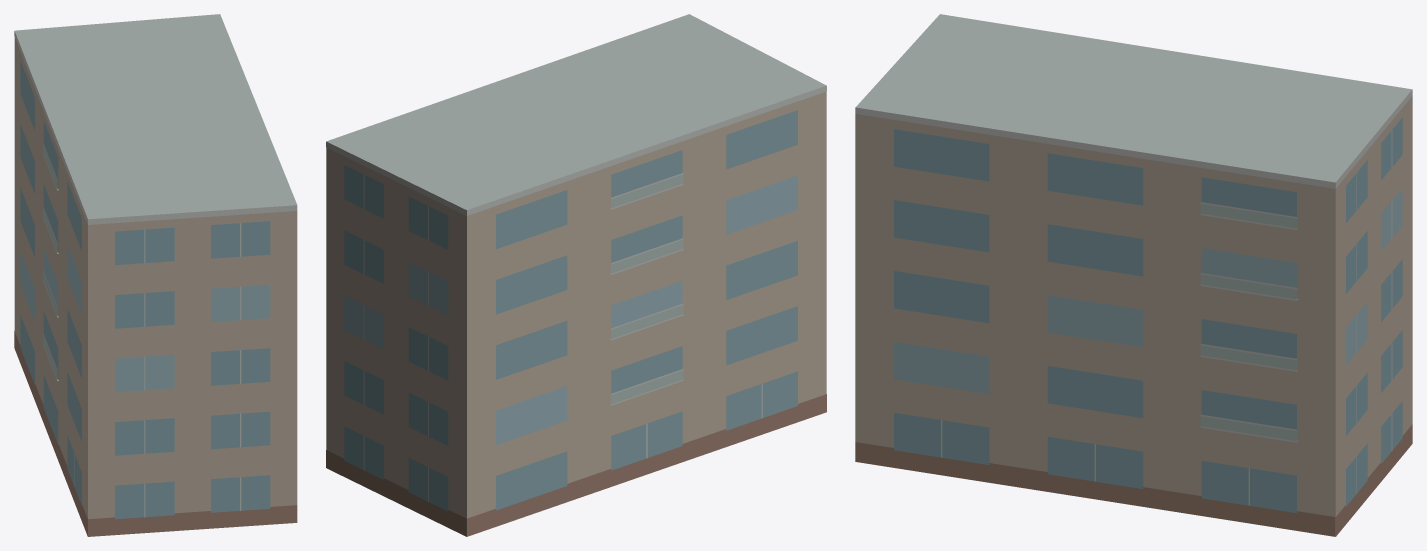
File: survey-upis-32527492.glb
3 renders of one model, left to right at view 1: azimuth 30°, elevation 25°; view 2: azimuth 150°, elevation 25°; view 3: azimuth 270°, elevation 25°, orthographic. The views are drawn at different scales.
Parts seen in each view (by area): view 1: survey-upis-32527492.tmp; view 2: survey-upis-32527492.tmp; view 3: survey-upis-32527492.tmp.
Part boxes in pixels (x1,y1,x2,y2): survey-upis-32527492.tmp: (14,14,297,536); survey-upis-32527492.tmp: (326,14,826,536); survey-upis-32527492.tmp: (855,14,1412,536).
Bounding box in the file's own units: 13.93 × 13.65 × 19.46.
